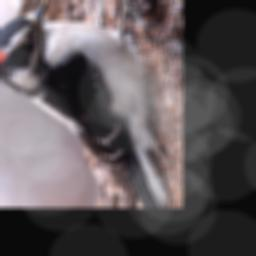Woodpecker: (0, 0, 172, 206)
